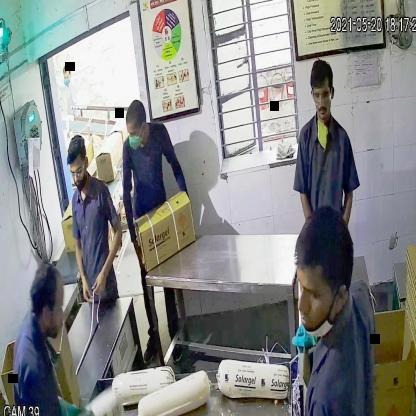goggles: (311, 88, 335, 106), (66, 164, 88, 180)
no_goggles: (290, 270, 344, 306), (125, 123, 147, 140)
